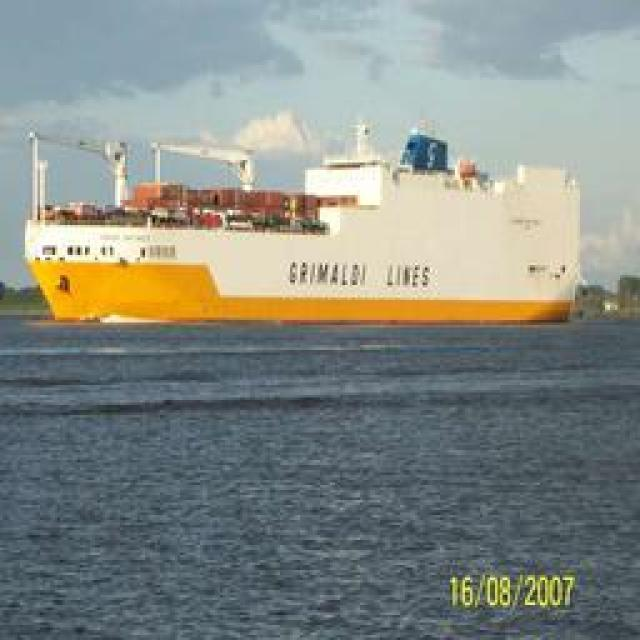ship2: (22, 116, 583, 329)
